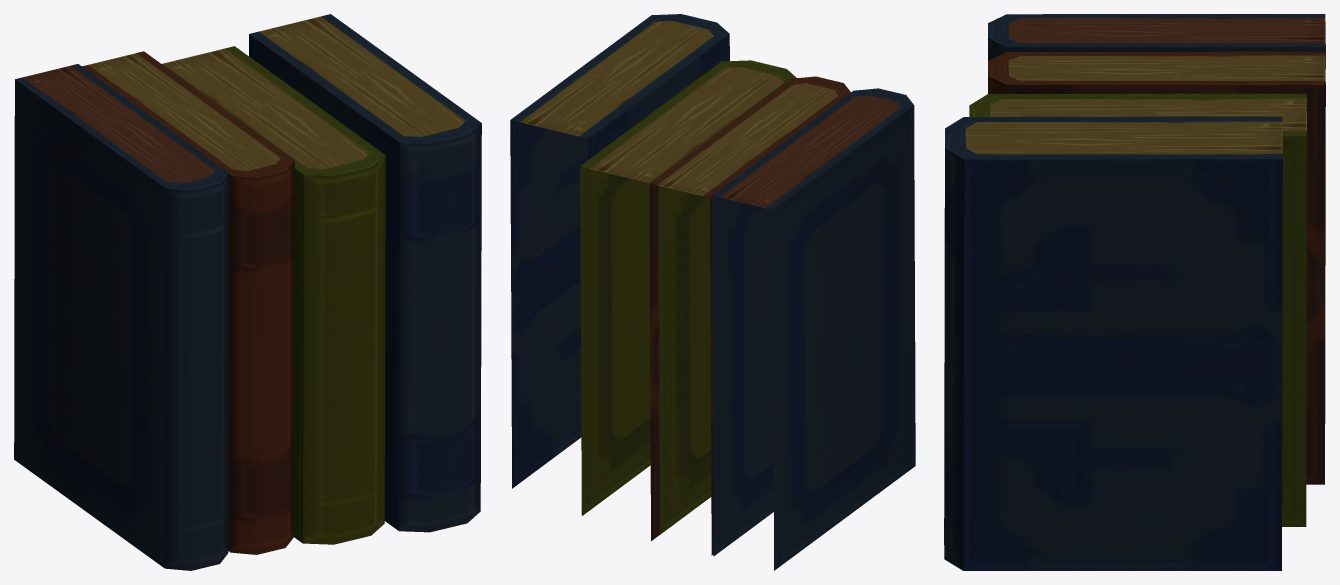
File: prop_bookgroup_small_2.glb
3 renders of one model, left to right at view 1: azimuth 30°, elevation 25°; view 2: azimuth 150°, elevation 25°; view 3: azimuth 270°, elevation 25°, orthographic. The views are drawn at different scales.
Parts seen in each view (by area): view 1: BookGroup_Small_2; view 2: BookGroup_Small_2; view 3: BookGroup_Small_2.
Part boxes in pixels (x1,y1,x2,y2): BookGroup_Small_2: (14, 14, 481, 570); BookGroup_Small_2: (510, 14, 915, 570); BookGroup_Small_2: (944, 14, 1325, 570).
Bounding box in the file's own units: 0.2276 × 0.2831 × 0.2372.
1 material, 1 textured.
